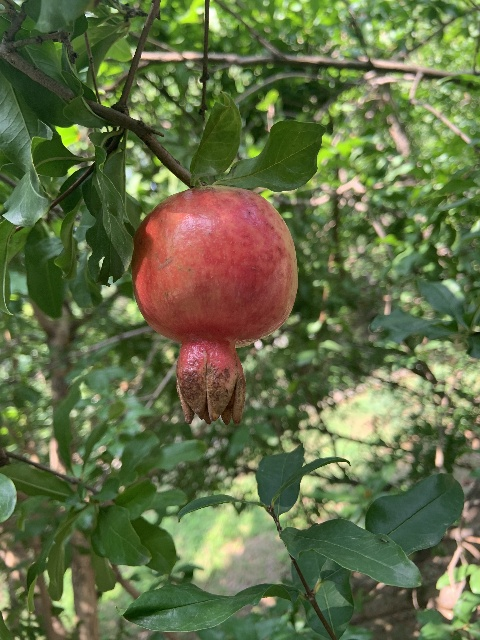ripe: (130, 185, 299, 427)
